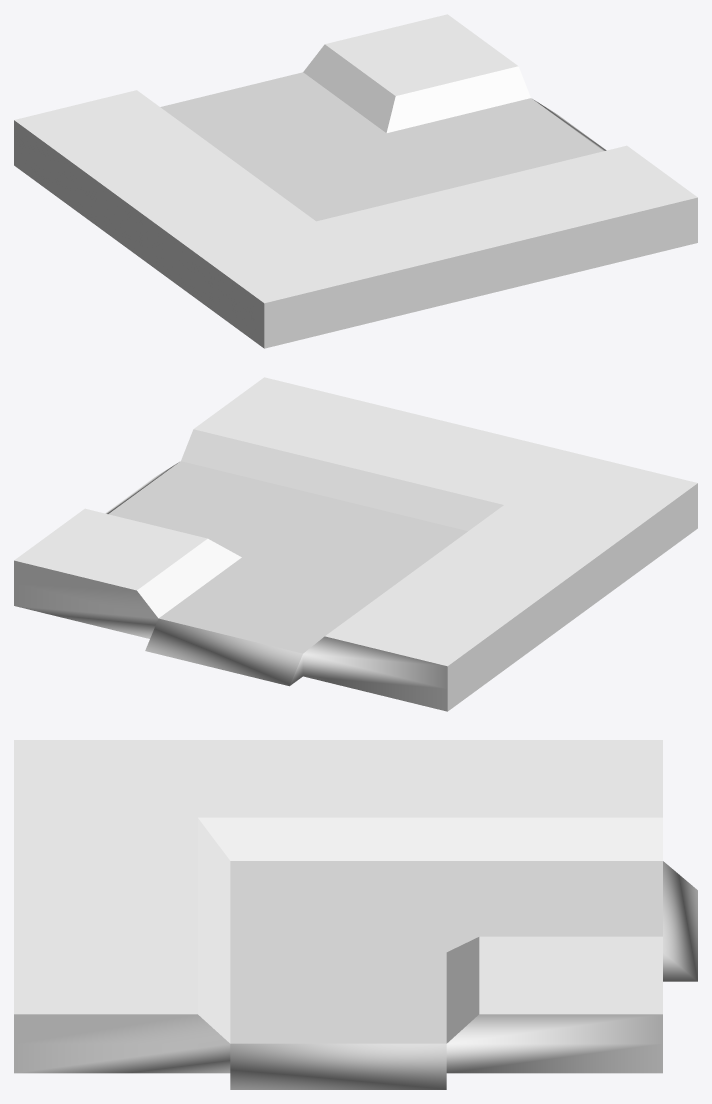
File: ForestRiverCurve.fbx
3 renders of one model, top to bottom at view 1: azimuth 30°, elevation 25°; view 2: azimuth 150°, elevation 25°; view 3: azimuth 270°, elevation 25°, orthographic. The views are drawn at different scales.
Visible parts, largest first — view 1: ForestRiverCurve; view 2: ForestRiverCurve; view 3: ForestRiverCurve.
Boxes of the visible parts, left/top/right/bottom form: ForestRiverCurve: left=14, top=14, right=697, bottom=348; ForestRiverCurve: left=14, top=377, right=697, bottom=711; ForestRiverCurve: left=14, top=740, right=697, bottom=1089.
Size of the model in its own units: 106 by 10 by 105.
